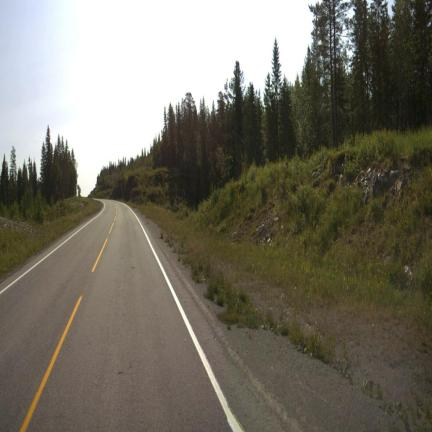Road: (0, 201, 239, 430)
